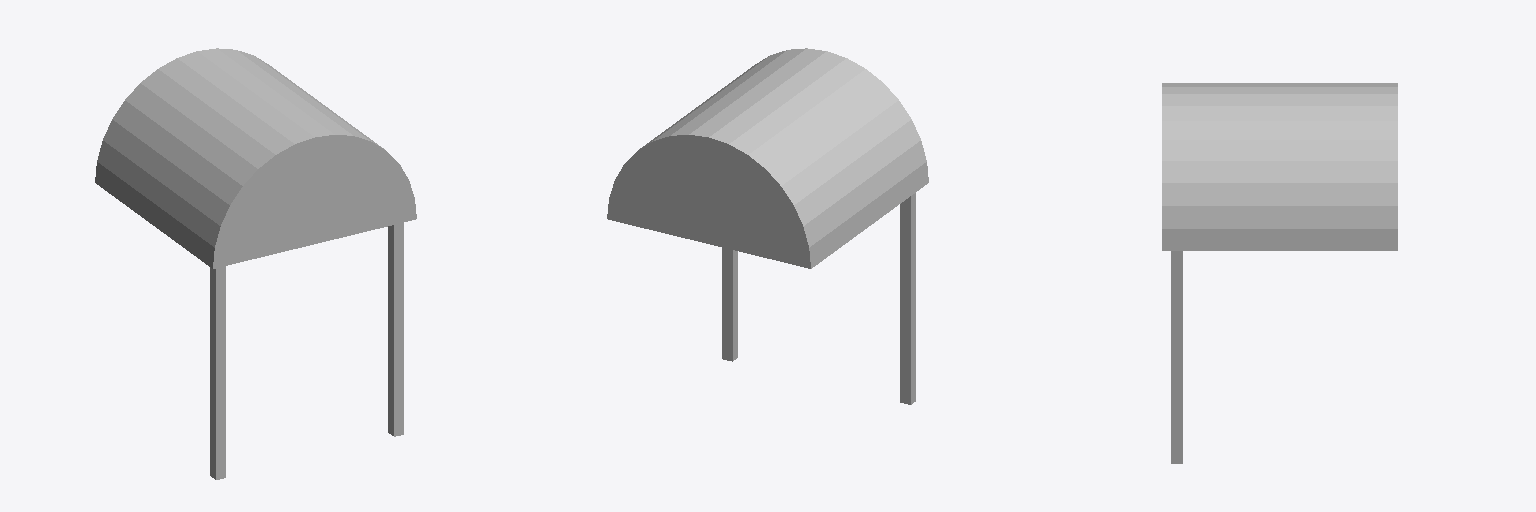
File: entrance0.obj
The picture shows the model from 3 angles: view 1: azimuth 30°, elevation 25°; view 2: azimuth 150°, elevation 25°; view 3: azimuth 270°, elevation 25°; orthographic projection.
Parts seen in each view (by area): view 1: entrance0_entrance0_Material.Fabric.NoCullFaces, entrance0_entrance0_Material.Metal; view 2: entrance0_entrance0_Material.Fabric.NoCullFaces, entrance0_entrance0_Material.Metal; view 3: entrance0_entrance0_Material.Fabric.NoCullFaces, entrance0_entrance0_Material.Metal.
Part boxes in pixels (left/top/right/bottom): entrance0_entrance0_Material.Fabric.NoCullFaces: left=95, top=48, right=416, bottom=268; entrance0_entrance0_Material.Metal: left=210, top=223, right=403, bottom=479; entrance0_entrance0_Material.Fabric.NoCullFaces: left=607, top=48, right=928, bottom=268; entrance0_entrance0_Material.Metal: left=722, top=193, right=915, bottom=404; entrance0_entrance0_Material.Fabric.NoCullFaces: left=1162, top=83, right=1397, bottom=250; entrance0_entrance0_Material.Metal: left=1171, top=251, right=1182, bottom=463.
Size of the model in its own units: 2 by 3.03 by 2.